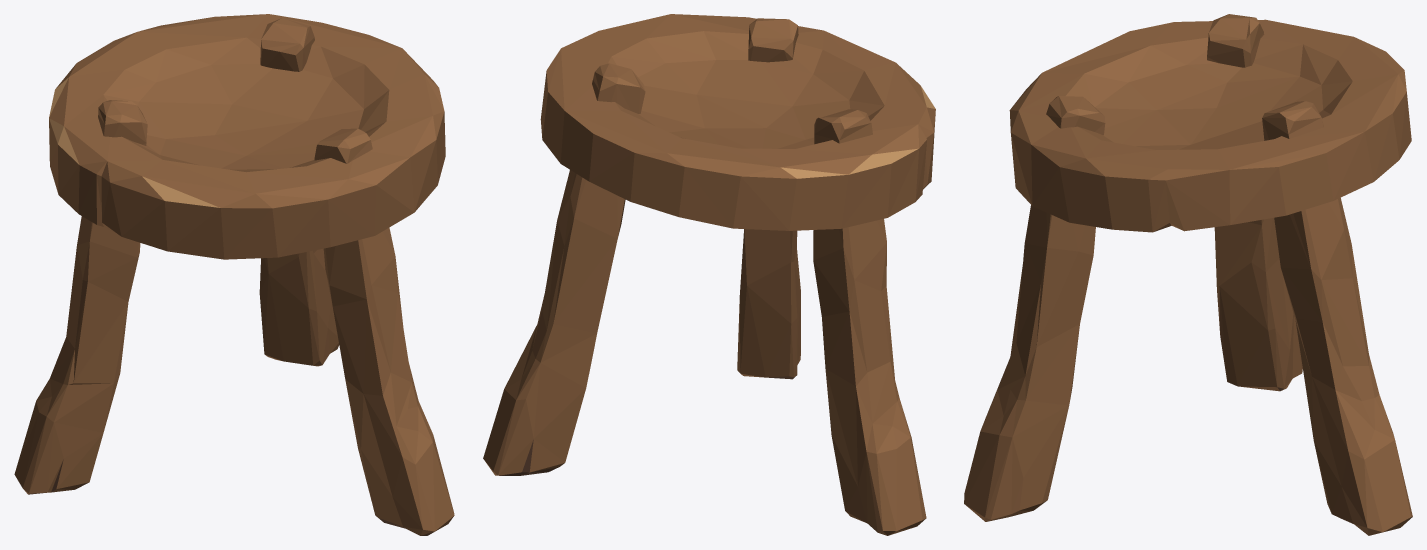
File: Stool.glb
The picture shows the model from 3 angles, left to right: view 1: azimuth 30°, elevation 25°; view 2: azimuth 150°, elevation 25°; view 3: azimuth 270°, elevation 25°; orthographic projection. The views are drawn at different scales.
Visible parts, largest first — view 1: Stool; view 2: Stool; view 3: Stool.
Part boxes in pixels (<box>): Stool: <box>14,14,454,535</box>; Stool: <box>483,14,935,535</box>; Stool: <box>964,14,1412,535</box>.
Size of the model in its own units: 0.4935 by 0.5 by 0.4948.
